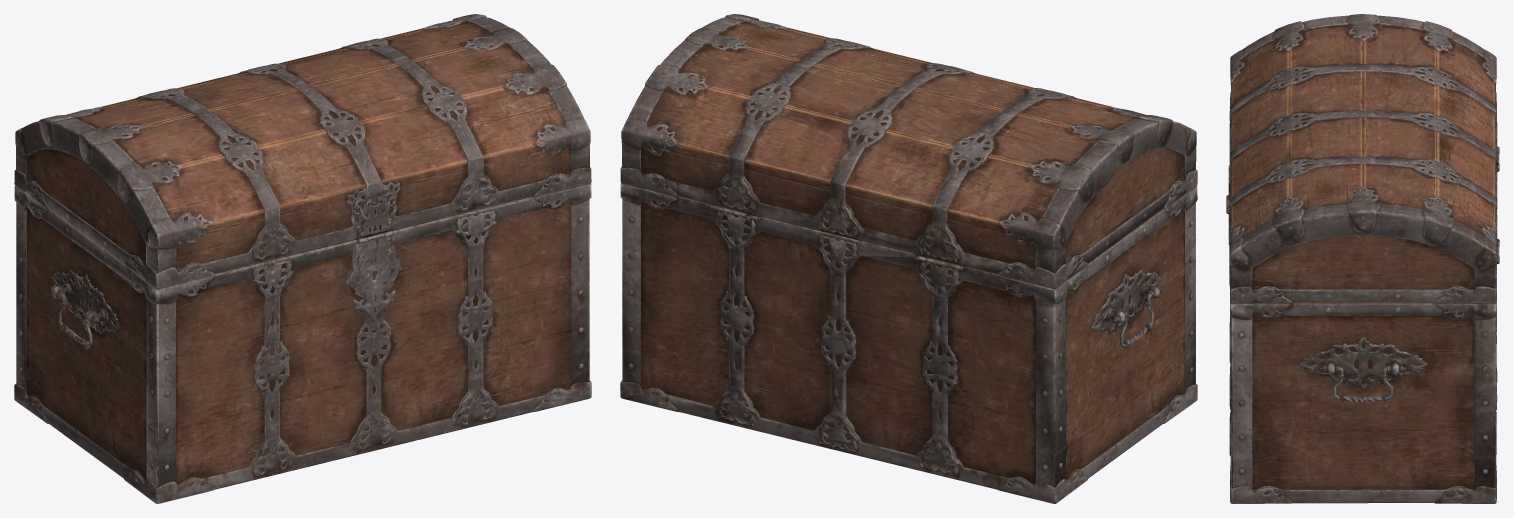
The model's file is treasure_chest.glb.
3 views of the same model, side by side, from view 1: azimuth 30°, elevation 25°; view 2: azimuth 150°, elevation 25°; view 3: azimuth 270°, elevation 25° (orthographic). The views are drawn at different scales.
Visible parts, largest first — view 1: treasure_chest_bottom, treasure_chest_lid, treasure_chest_lock; view 2: treasure_chest_bottom, treasure_chest_lid; view 3: treasure_chest_lid, treasure_chest_bottom, treasure_chest_handle_right.
Part boxes in pixels (x1,y1,x2,y2): treasure_chest_bottom: (14,183,591,503); treasure_chest_lid: (14,14,591,288); treasure_chest_lock: (349,233,399,322); treasure_chest_bottom: (620,183,1197,503); treasure_chest_lid: (620,14,1197,288); treasure_chest_lid: (1226,14,1499,303); treasure_chest_bottom: (1229,152,1499,503); treasure_chest_handle_right: (1320,365,1405,402).
Size of the model in its own units: 0.959 by 0.6188 by 0.5226.
Materials: 1 (1 with a texture image).
